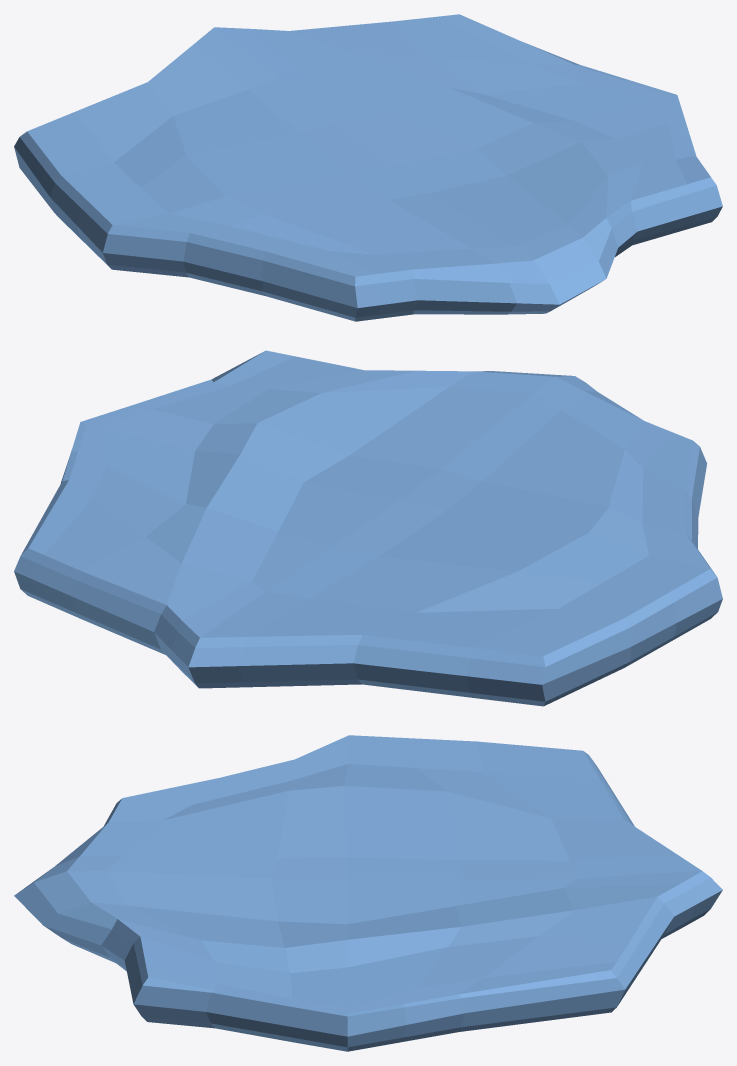
File: Ice.fbx
3 views of the same model, one above another, from view 1: azimuth 30°, elevation 25°; view 2: azimuth 150°, elevation 25°; view 3: azimuth 270°, elevation 25° (orthographic). The views are drawn at different scales.
Parts seen in each view (by area): view 1: Ice_ITA1:Ita_Ice1; view 2: Ice_ITA1:Ita_Ice1; view 3: Ice_ITA1:Ita_Ice1.
Part boxes in pixels (x1=…): Ice_ITA1:Ita_Ice1: x1=14, y1=14, x2=722, y2=321; Ice_ITA1:Ita_Ice1: x1=14, y1=350, x2=722, y2=706; Ice_ITA1:Ita_Ice1: x1=14, y1=735, x2=722, y2=1051.
Bounding box in the file's own units: 0.0784 × 0.00732 × 0.0833.
